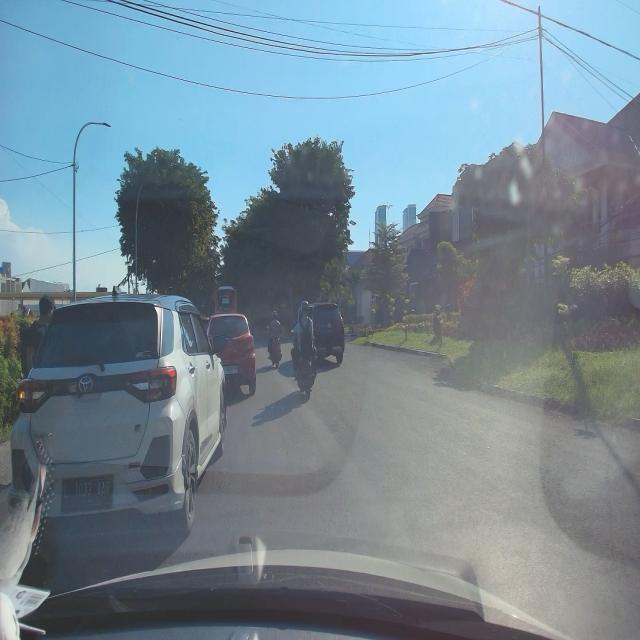car: (8, 290, 230, 535), (205, 310, 258, 396), (296, 298, 345, 367), (61, 476, 113, 511)
